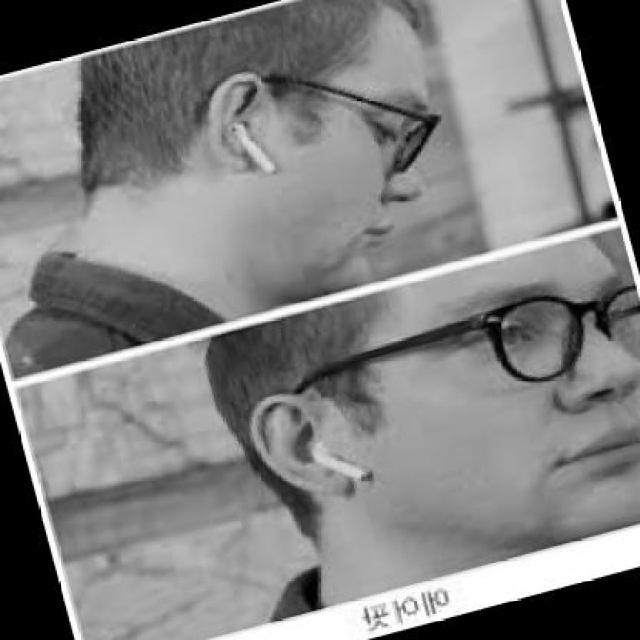earphone: (308, 420, 378, 501), (222, 110, 287, 184)
